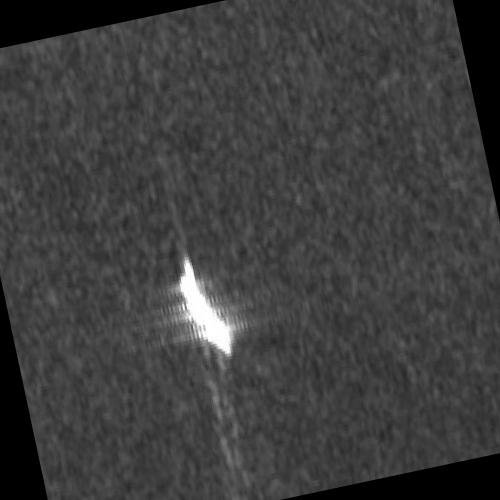ship: (180, 255, 233, 355)
